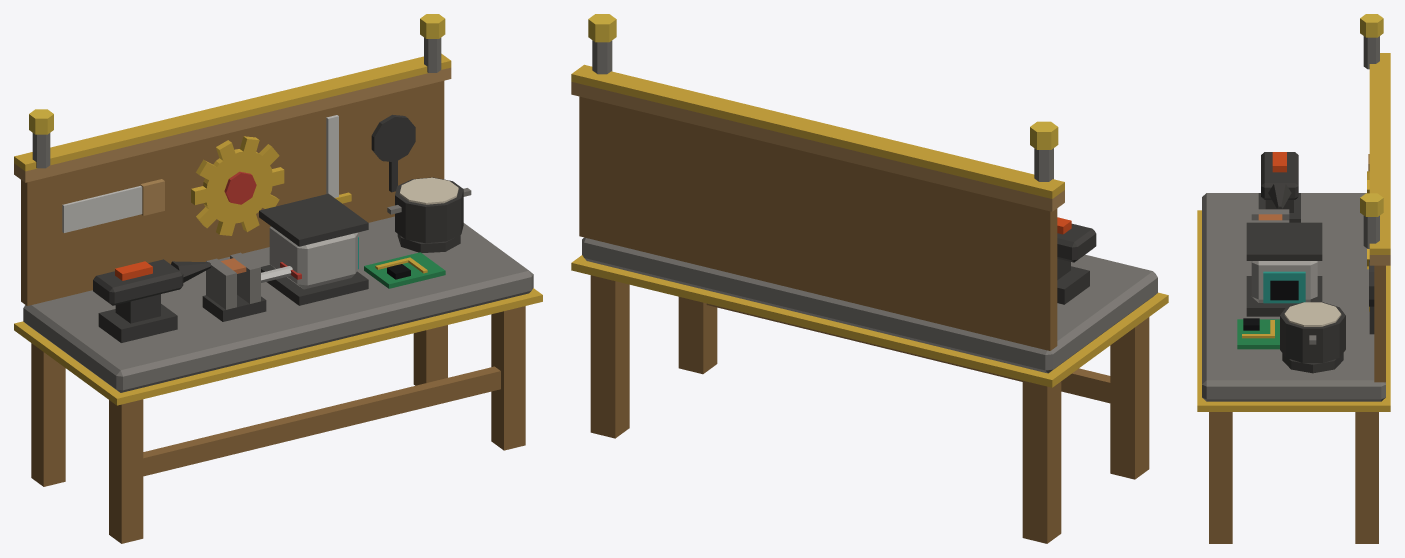
File: wb_all.fbx
3 views of the same model, side by side, from view 1: azimuth 30°, elevation 25°; view 2: azimuth 150°, elevation 25°; view 3: azimuth 270°, elevation 25° (orthographic). The views are drawn at different scales.
Parts seen in each view (by area): view 1: wb_all; view 2: wb_all; view 3: wb_all.
Boxes of the visible parts, x1,y1,x2,y2 form: wb_all: (14,14,542,543); wb_all: (571,14,1168,543); wb_all: (1197,14,1390,543).
Bounding box in the file's own units: 5.88 × 4.82 × 2.46.
